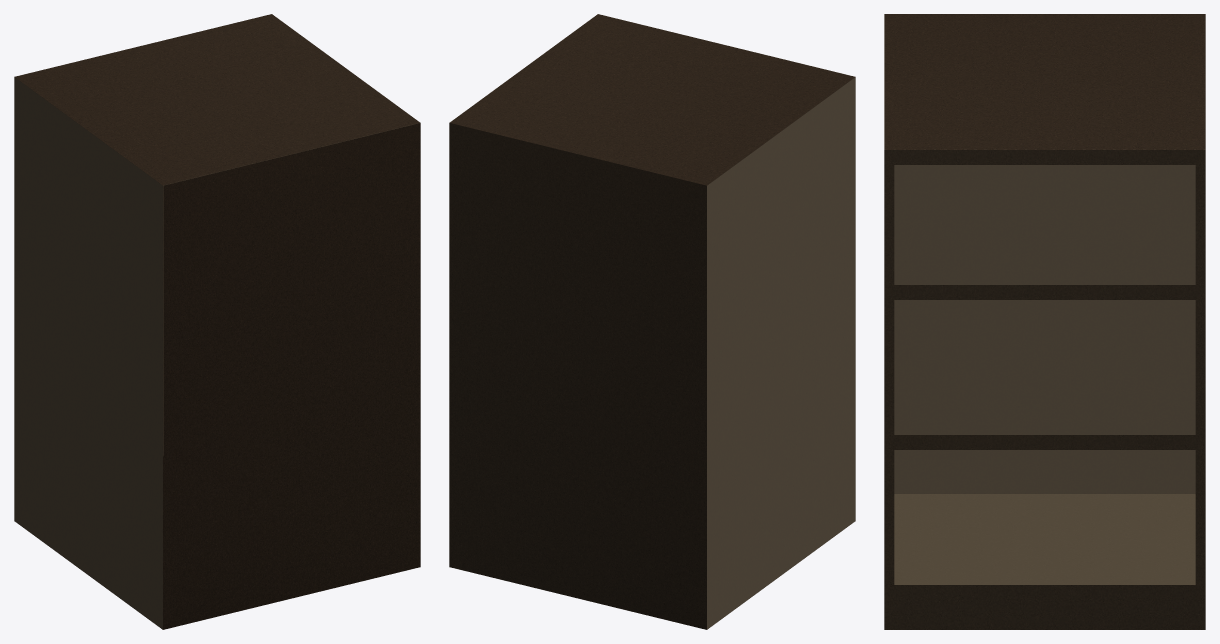
The model's file is side-table.obj.
The picture shows the model from 3 angles, left to right: view 1: azimuth 30°, elevation 25°; view 2: azimuth 150°, elevation 25°; view 3: azimuth 270°, elevation 25°; orthographic projection. The views are drawn at different scales.
Parts seen in each view (by area): view 1: Side_Table_Cube; view 2: Side_Table_Cube; view 3: Side_Table_Cube.
Part boxes in pixels (x1=…): Side_Table_Cube: x1=14, y1=14, x2=420, y2=629; Side_Table_Cube: x1=449, y1=14, x2=855, y2=629; Side_Table_Cube: x1=884, y1=14, x2=1205, y2=629.
Size of the model in its own units: 0.5 by 0.8239 by 0.5.
Materials: 1 (1 with a texture image).
